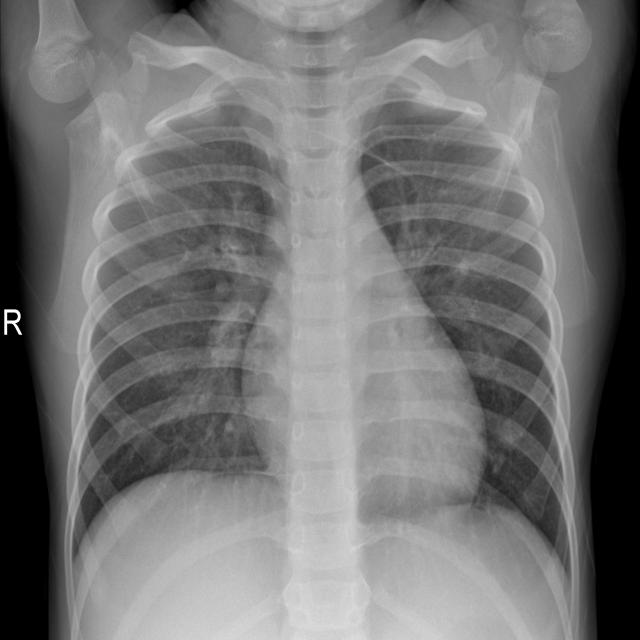no-pneumonia: (362, 64, 580, 621), (66, 52, 287, 596)
